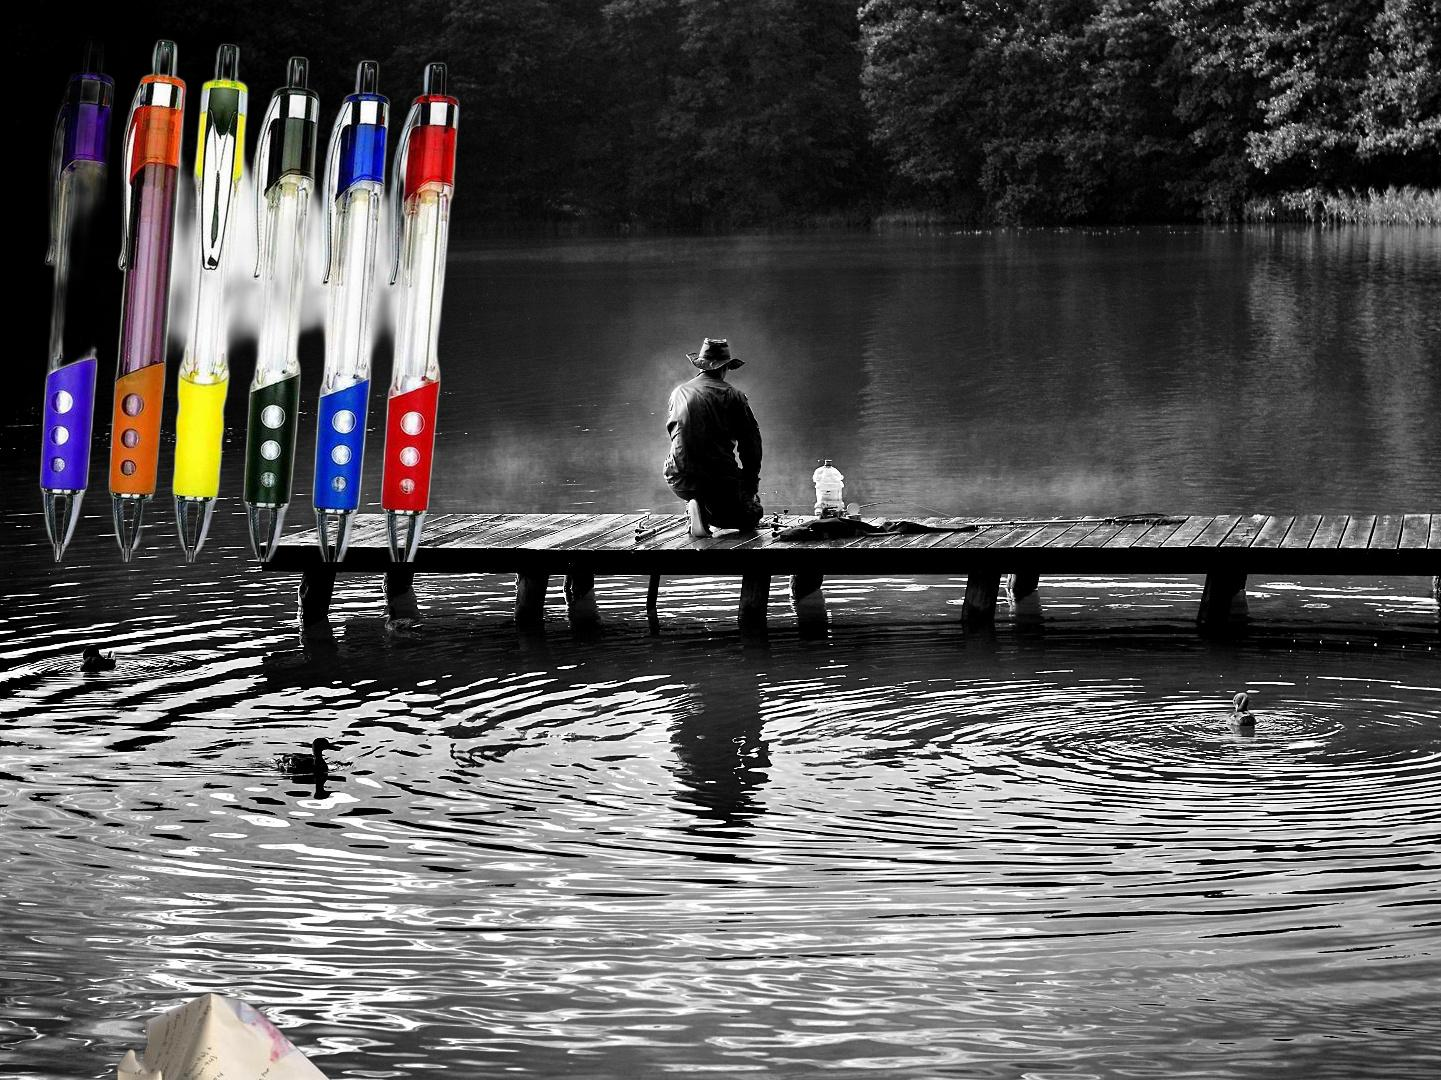paper: (112, 989, 420, 1080)
penholder: (21, 35, 464, 562)
